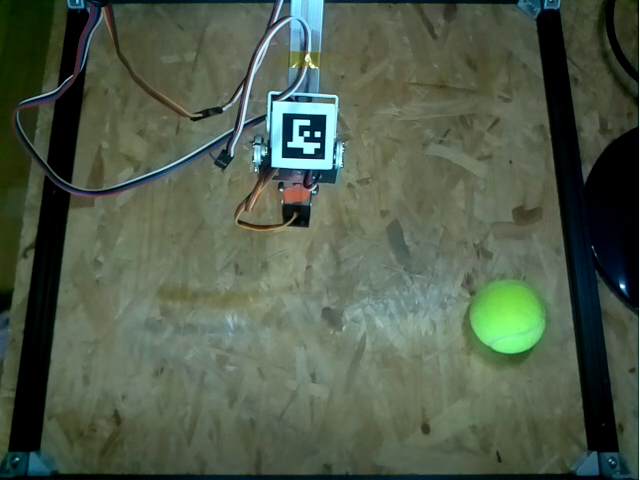tennis_ball: (470, 280, 548, 353)
